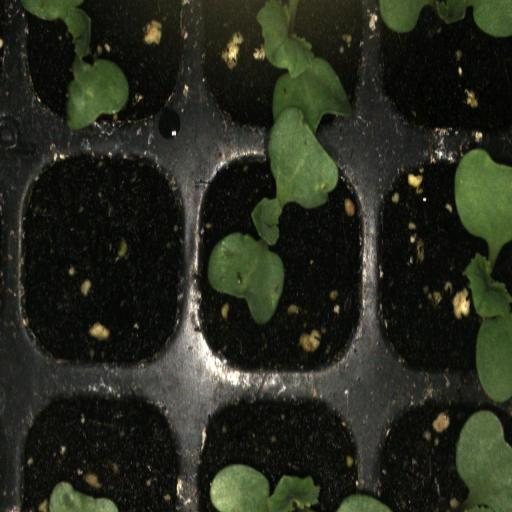Folha: (21, 0, 129, 133), (209, 464, 320, 512)
Germinacao: (194, 144, 369, 378), (372, 145, 511, 377), (193, 0, 369, 143)
